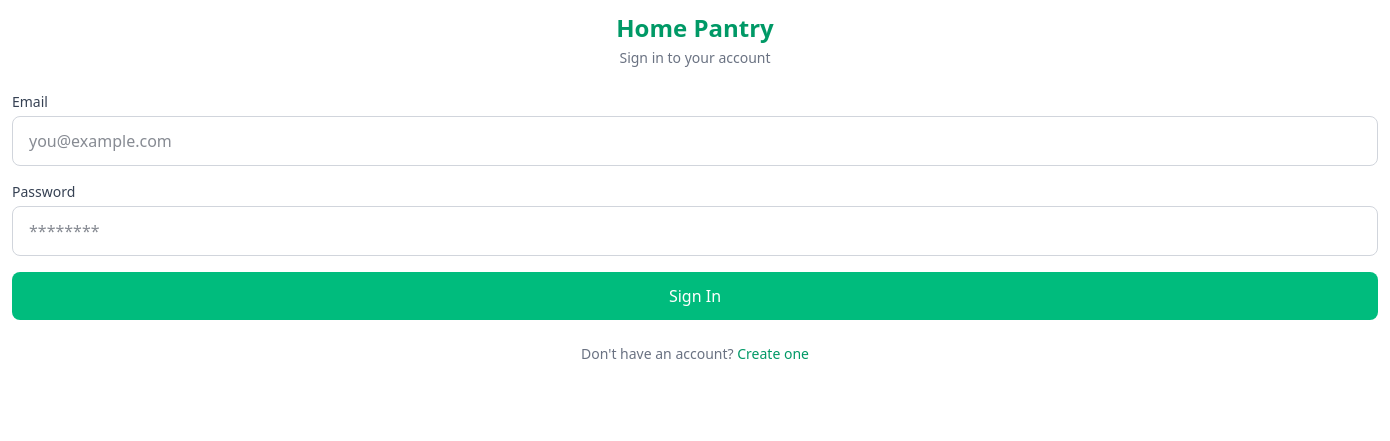
Test: LoginPage › clears error when toggling mode
Type "test@example.com" into the field labelled "Email".
click(695, 141); type("test@example.com")  # box [12,116,1378,166]
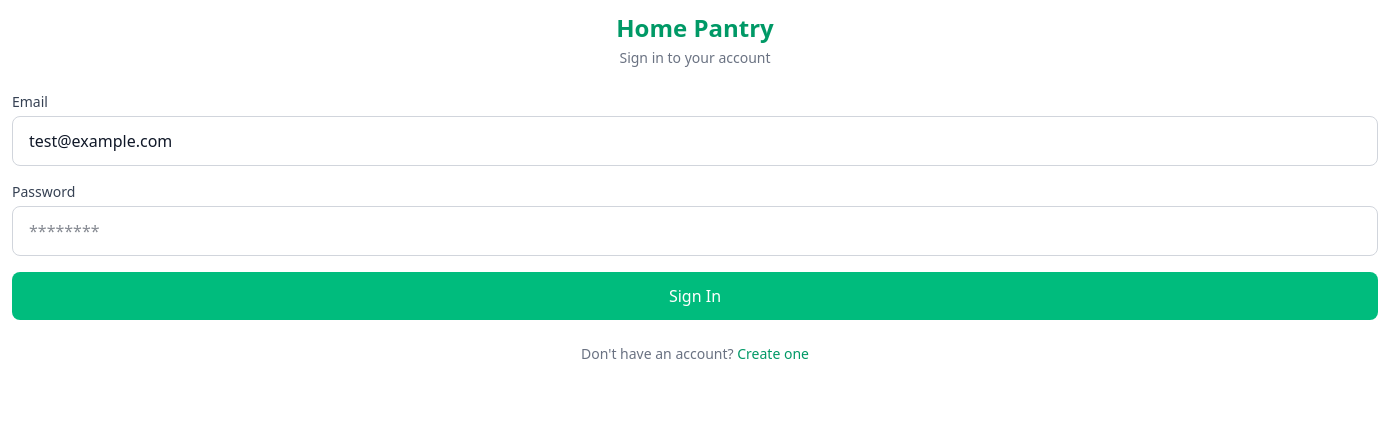
Type "wrongpassword" into the password field labelled "Password".
click(695, 231); type("wrongpassword")  # box [12,206,1378,256]
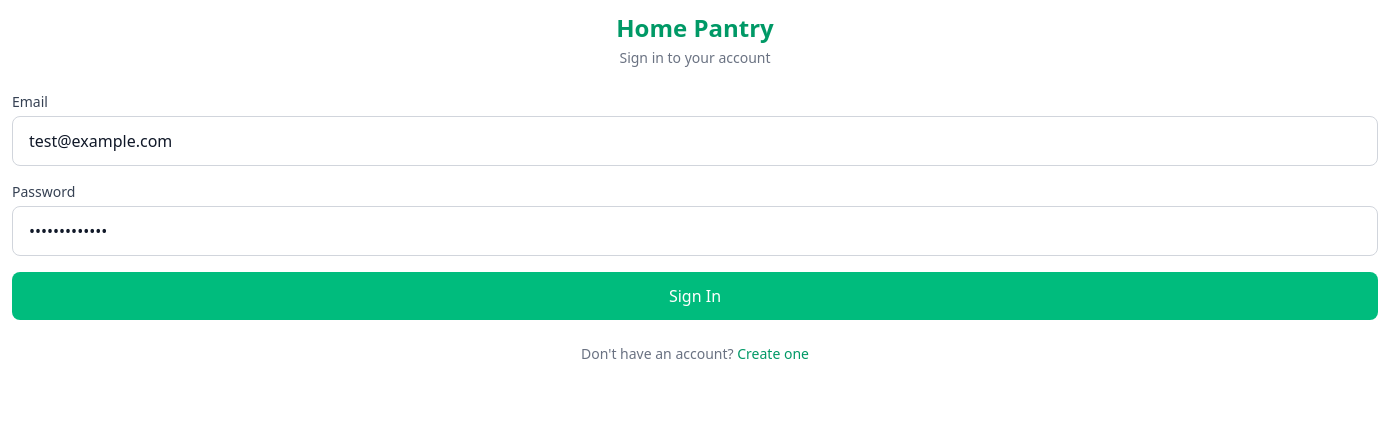
Click the button "Sign In".
click(695, 296)  # box [12,272,1378,320]
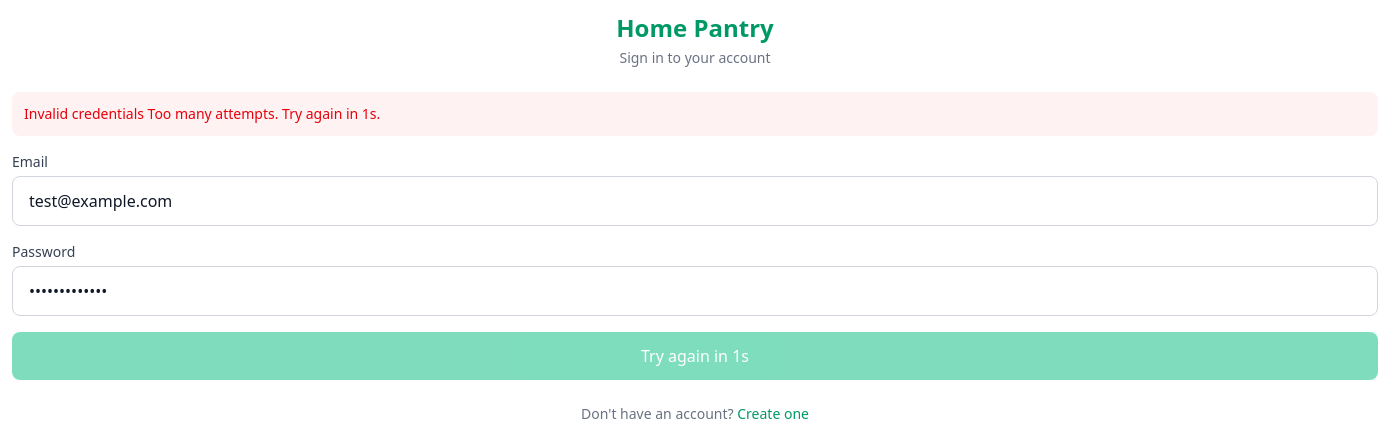
Now the text "Invalid credentials Too many attempts. Try again in 1s." is shown, box [12,92,1378,136]
Click the button "Create one".
click(773, 414)  # box [737,404,809,424]
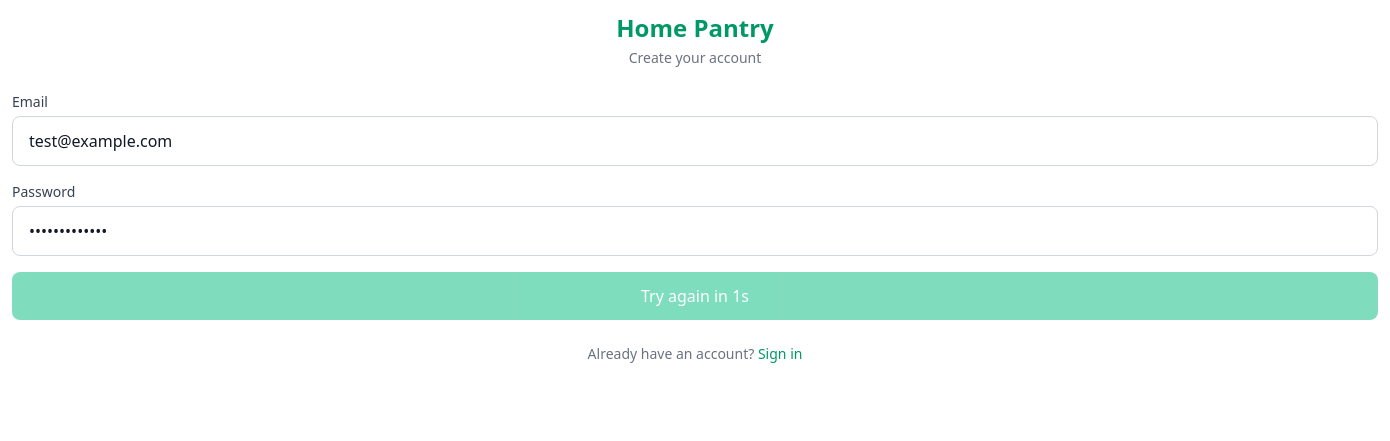
Now the text "Invalid credentials" is gone
